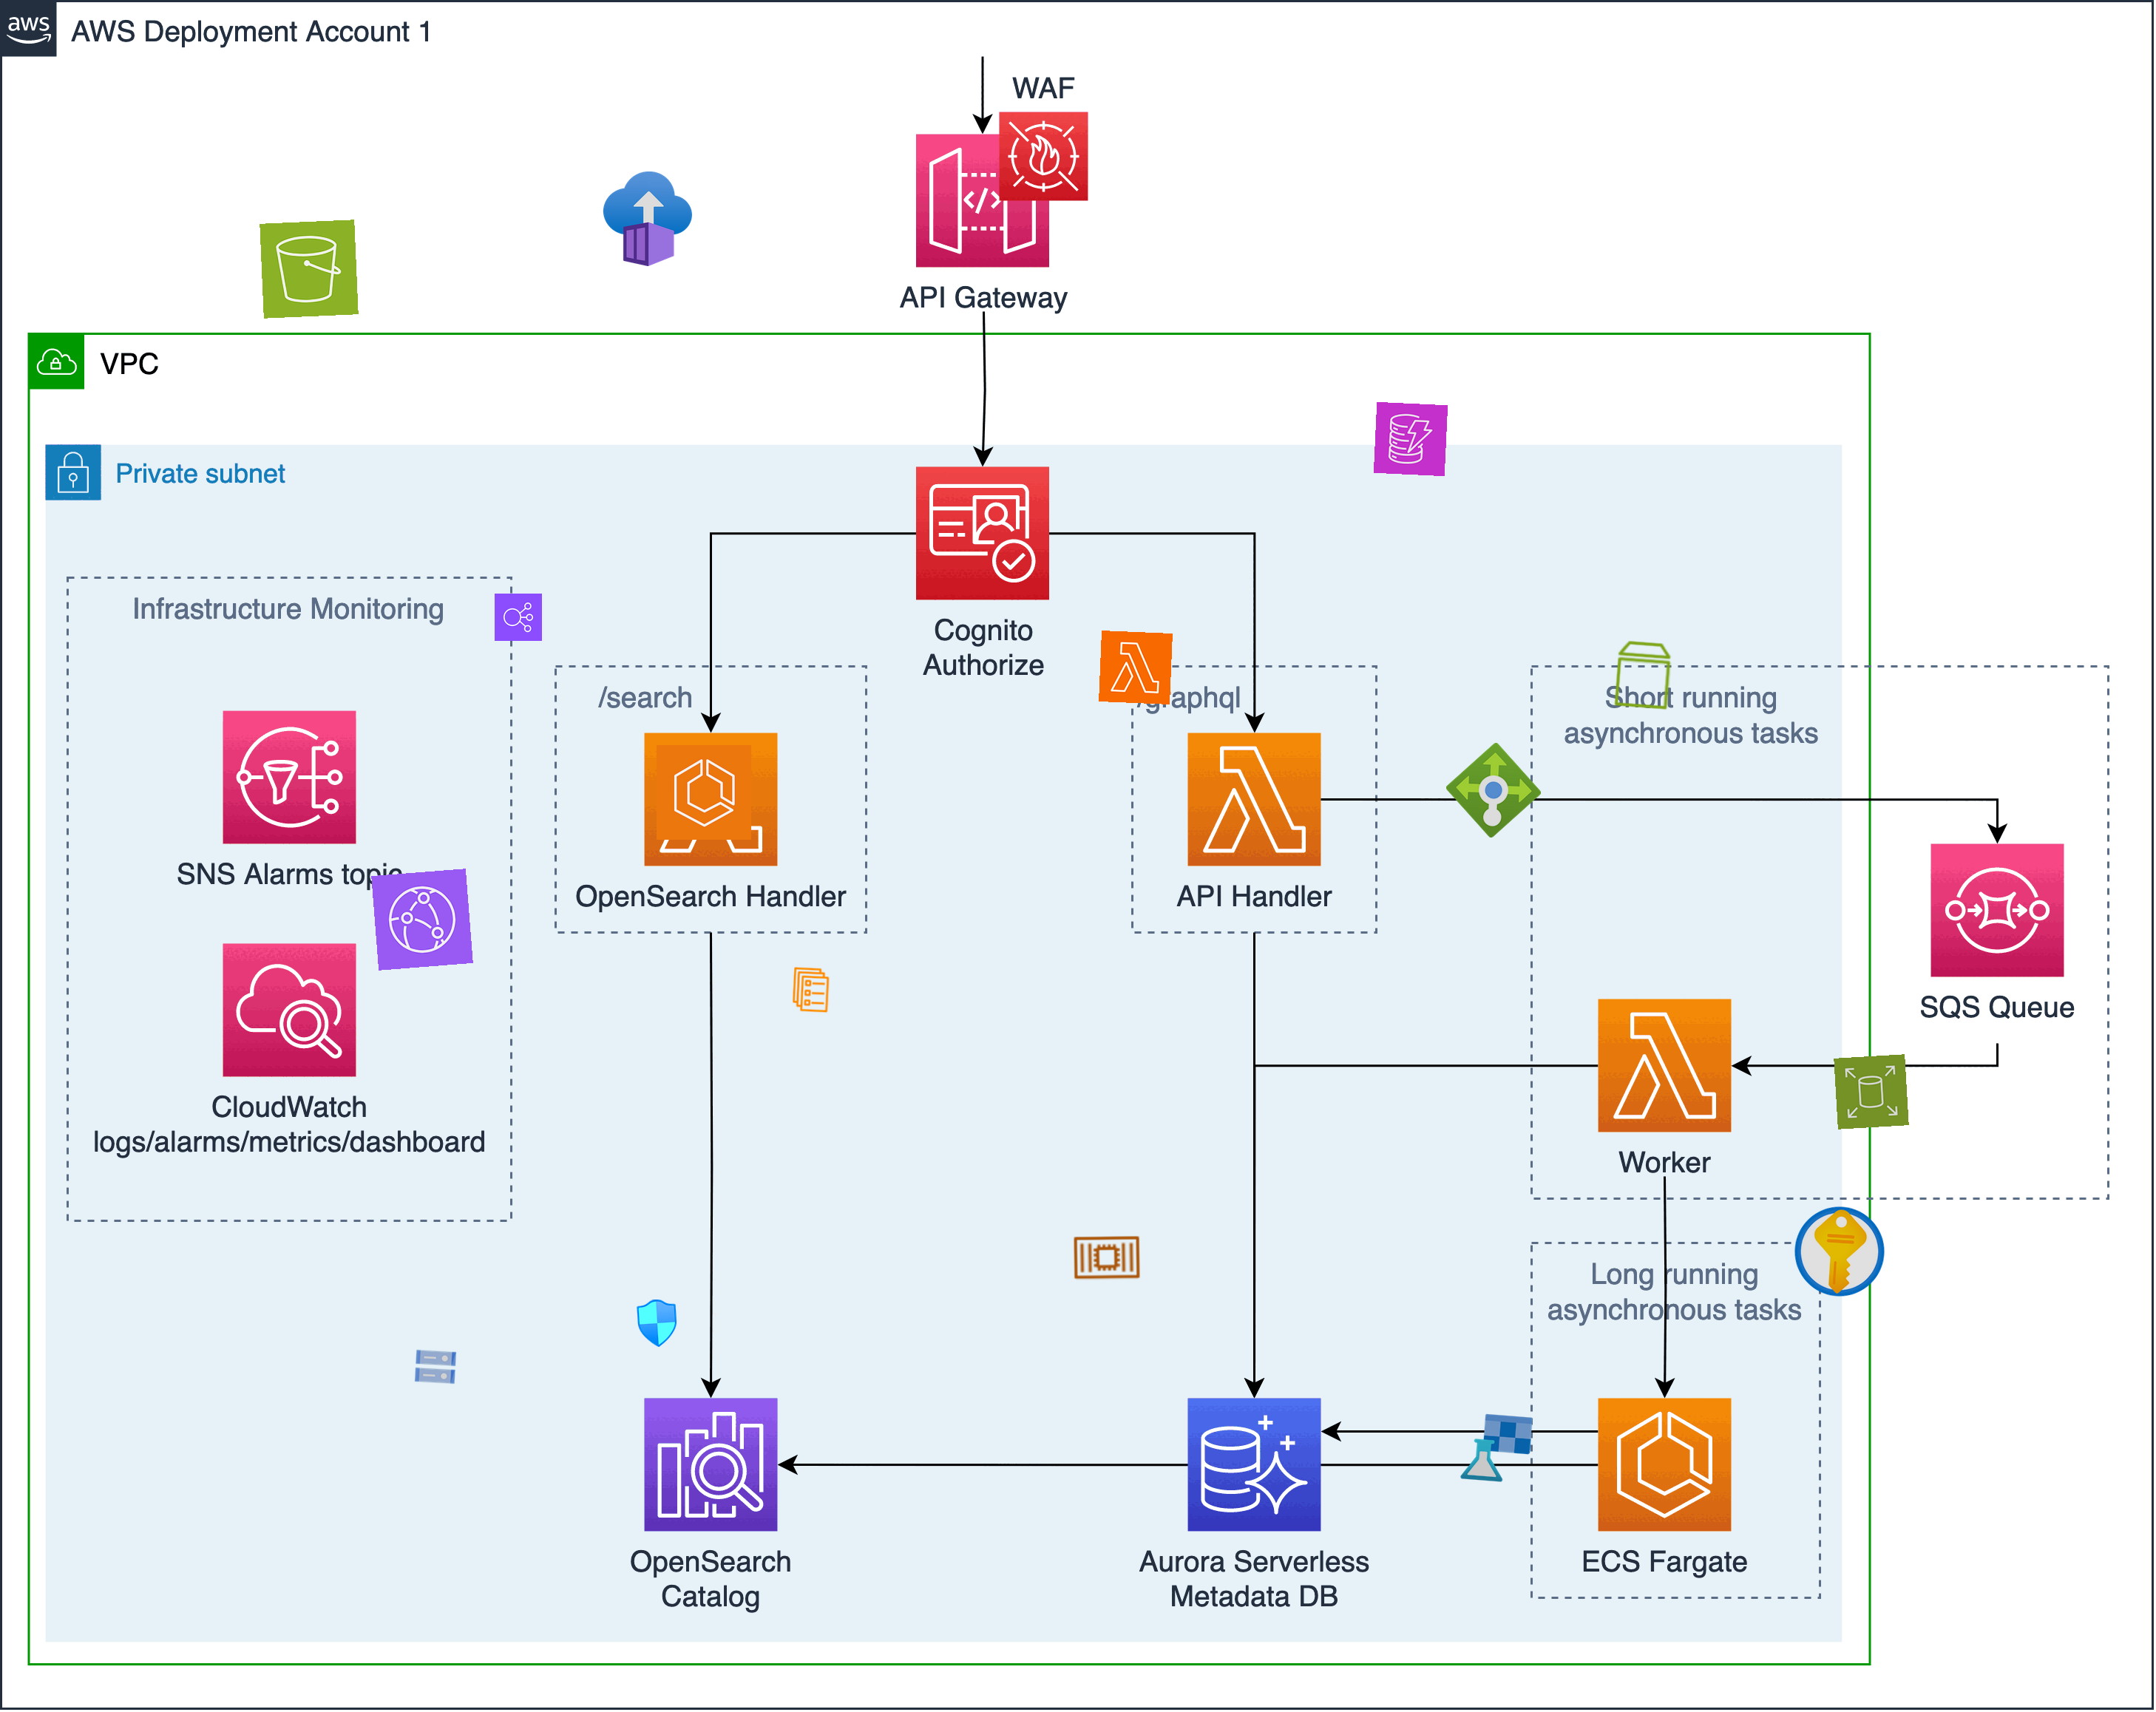aws_amazon_cloudfront: (371, 869, 472, 971)
aws_amazon_dynamodb: (1374, 402, 1449, 477)
aws_amazon_elastic_block_store: (1834, 1054, 1909, 1130)
aws_amazon_elastic_container_service: (656, 745, 752, 841)
aws_amazon_simple_storage_service: (259, 220, 359, 318)
aws_elastic_block_store_volume: (1605, 637, 1682, 713)
aws_elastic_container_service_container_2: (1071, 1221, 1143, 1294)
aws_elastic_container_service_service: (786, 965, 836, 1014)
aws_elastic_load_balancing: (493, 593, 542, 642)
aws_lambda: (1099, 631, 1172, 705)
azure_container_instances: (600, 171, 696, 268)
azure_key_vaults: (1788, 1201, 1890, 1301)
azure_load_balancers: (1444, 740, 1543, 841)
azure_machine_learning_studio_workspaces: (1458, 1409, 1535, 1486)
azure_network_security_groups: (632, 1298, 682, 1348)
gcp_cloud_storage: (410, 1341, 460, 1392)
